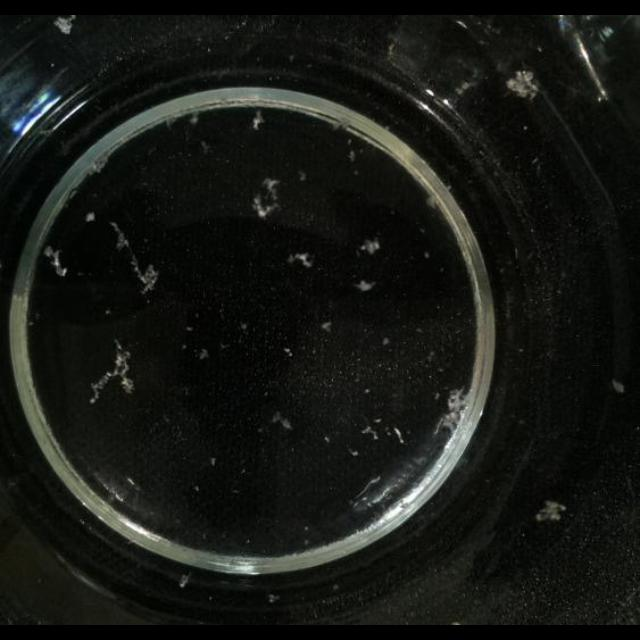Fibre: (90, 340, 136, 404), (437, 386, 469, 436), (250, 176, 282, 218), (506, 70, 540, 100), (43, 246, 67, 276), (536, 501, 566, 524), (138, 264, 160, 292), (286, 252, 314, 268), (272, 412, 292, 432), (358, 238, 380, 256), (53, 16, 75, 34), (88, 157, 105, 176), (251, 111, 265, 131), (392, 426, 406, 444), (362, 425, 378, 439), (321, 321, 332, 332)
microbeads: (355, 280, 375, 292), (612, 378, 626, 394), (178, 572, 190, 588), (85, 212, 95, 222)
